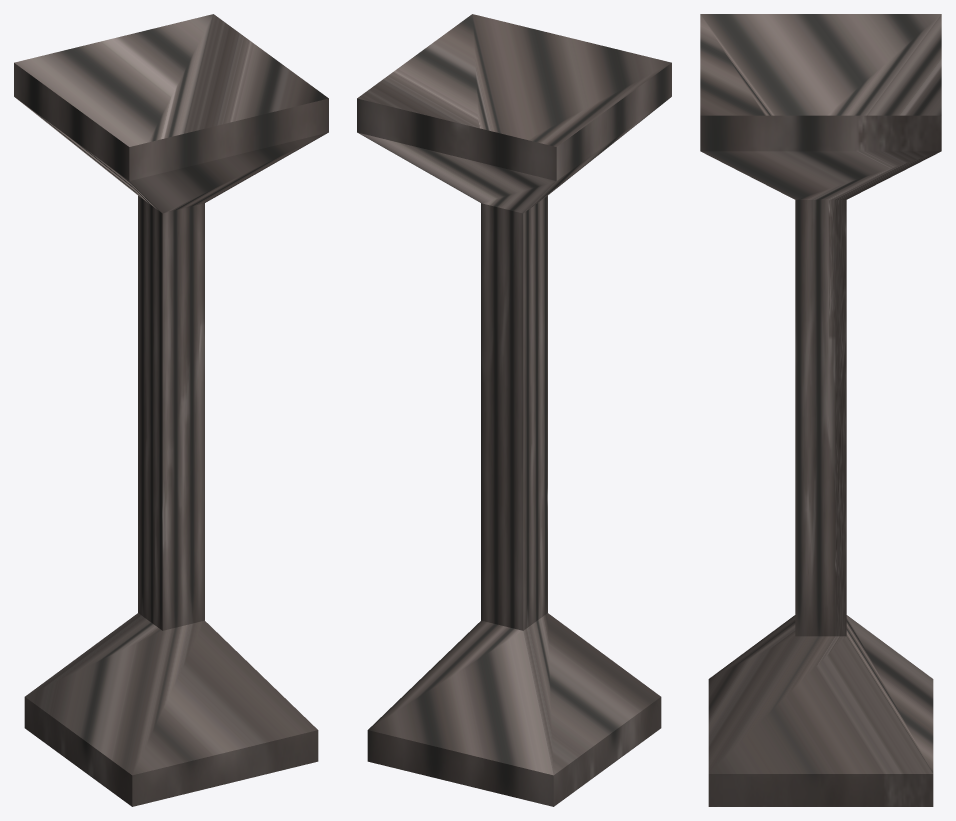
The model's file is brazier.fbx.
3 renders of one model, left to right at view 1: azimuth 30°, elevation 25°; view 2: azimuth 150°, elevation 25°; view 3: azimuth 270°, elevation 25°, orthographic. The views are drawn at different scales.
Visible parts, largest first — view 1: brazier; view 2: brazier; view 3: brazier.
Part boxes in pixels (x1,y1,x2,y2): brazier: (14,14,328,806); brazier: (357,14,671,806); brazier: (700,14,941,806).
Bounding box in the file's own units: 4.4 × 13.99 × 4.4.
